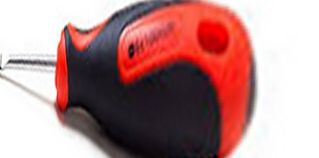Screwdriver: (1, 1, 264, 158)
